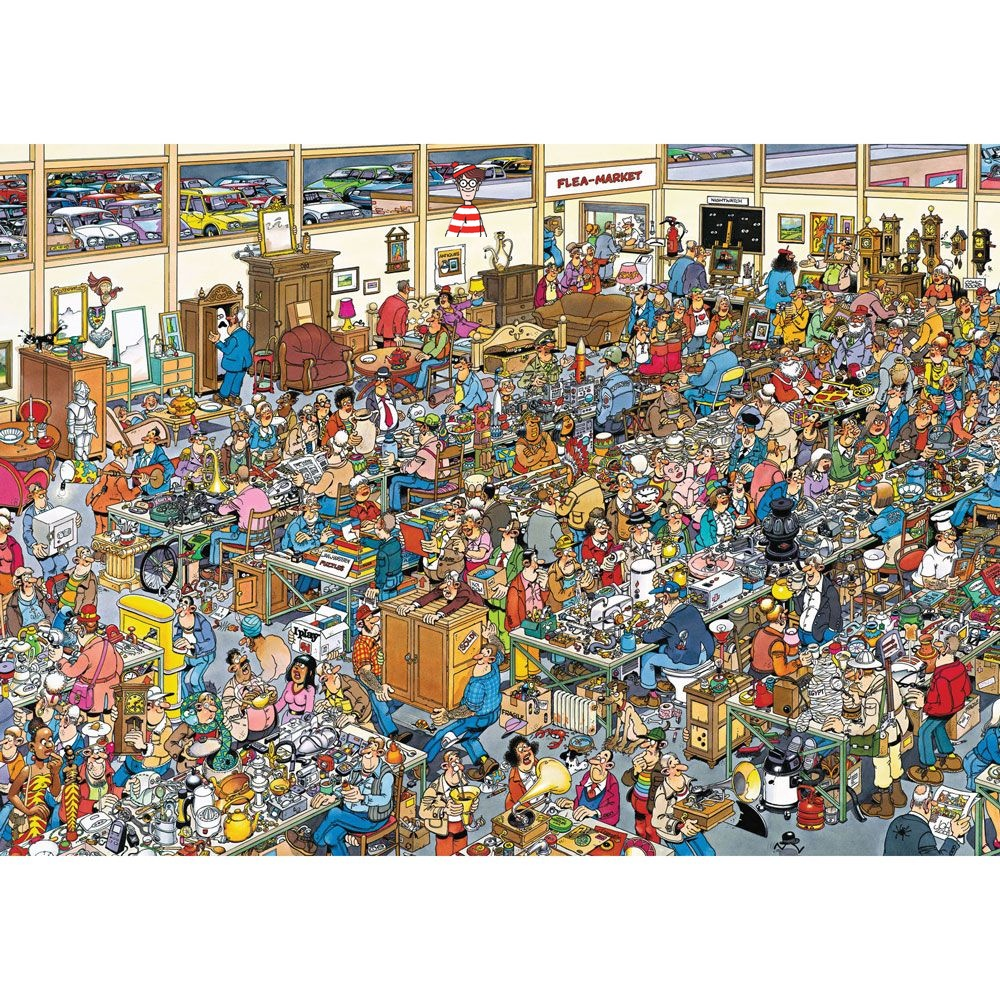waldo: (445, 161, 487, 237)
